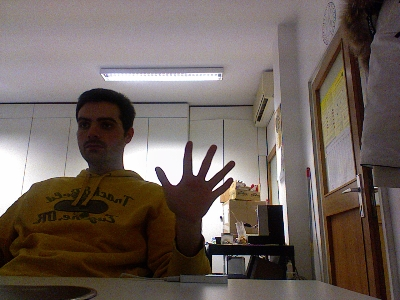布: (153, 140, 235, 220)
